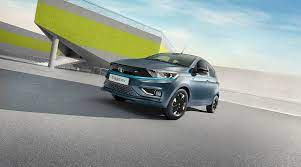Tiago: (100, 51, 220, 121)
